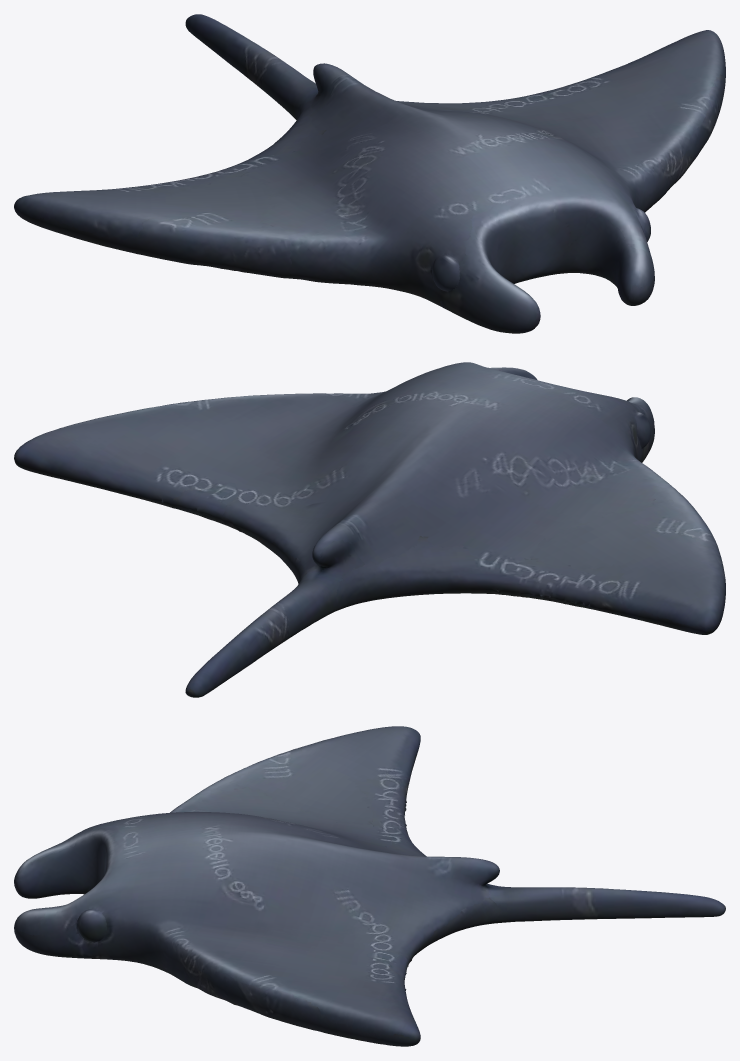
Rendered from manta_pbr.glb.
3 renders of one model, top to bottom at view 1: azimuth 30°, elevation 25°; view 2: azimuth 150°, elevation 25°; view 3: azimuth 270°, elevation 25°, orthographic. The views are drawn at different scales.
Visible parts, largest first — view 1: model; view 2: model; view 3: model.
Boxes of the visible parts, box(x1,y1,x2,y2) form: model: box(14, 14, 725, 333); model: box(14, 362, 725, 697); model: box(14, 726, 725, 1046).
Bounding box in the file's own units: 1.79 × 0.2429 × 1.76.
1 material, 1 textured.
